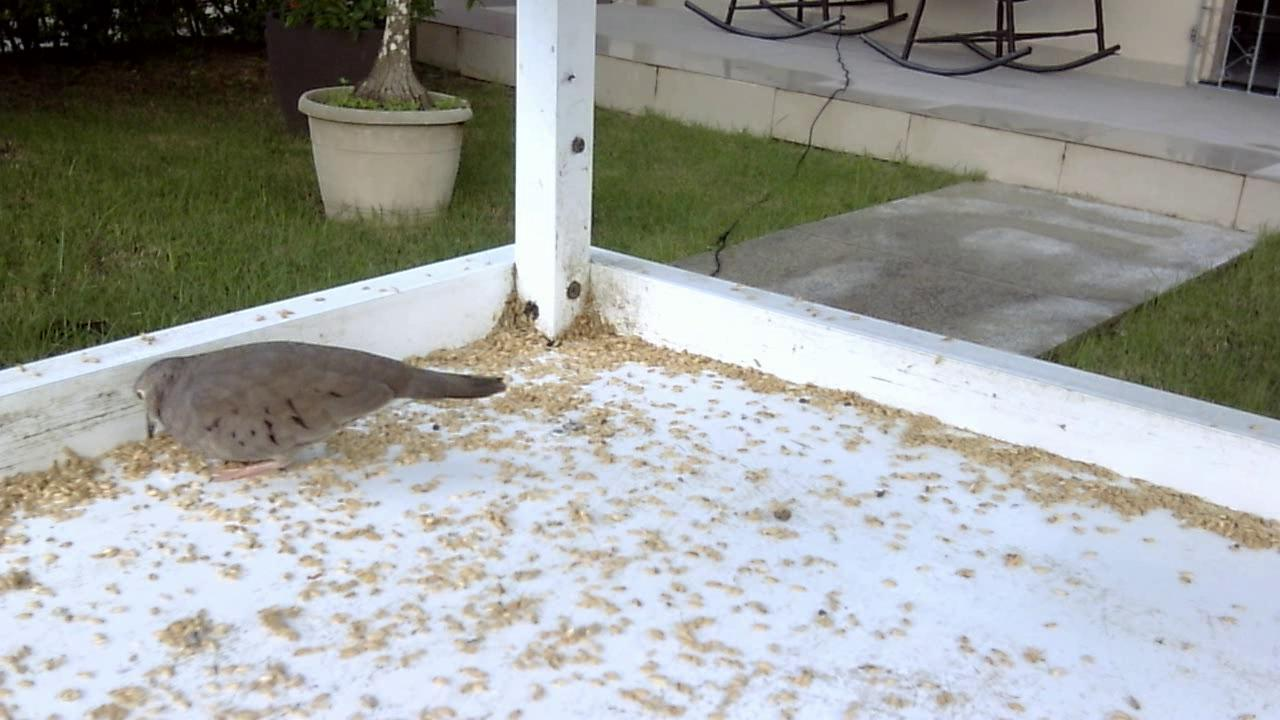rolinha: (124, 334, 510, 482)
